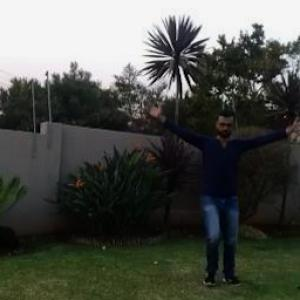takeoff: (139, 104, 299, 285)
